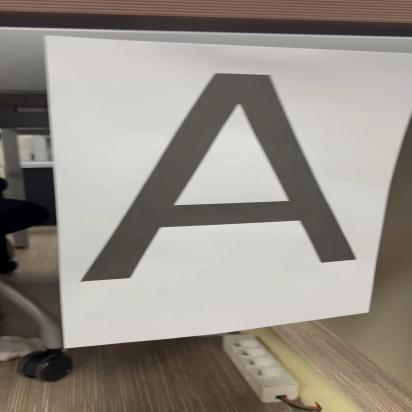seat: (69, 59, 364, 288)
